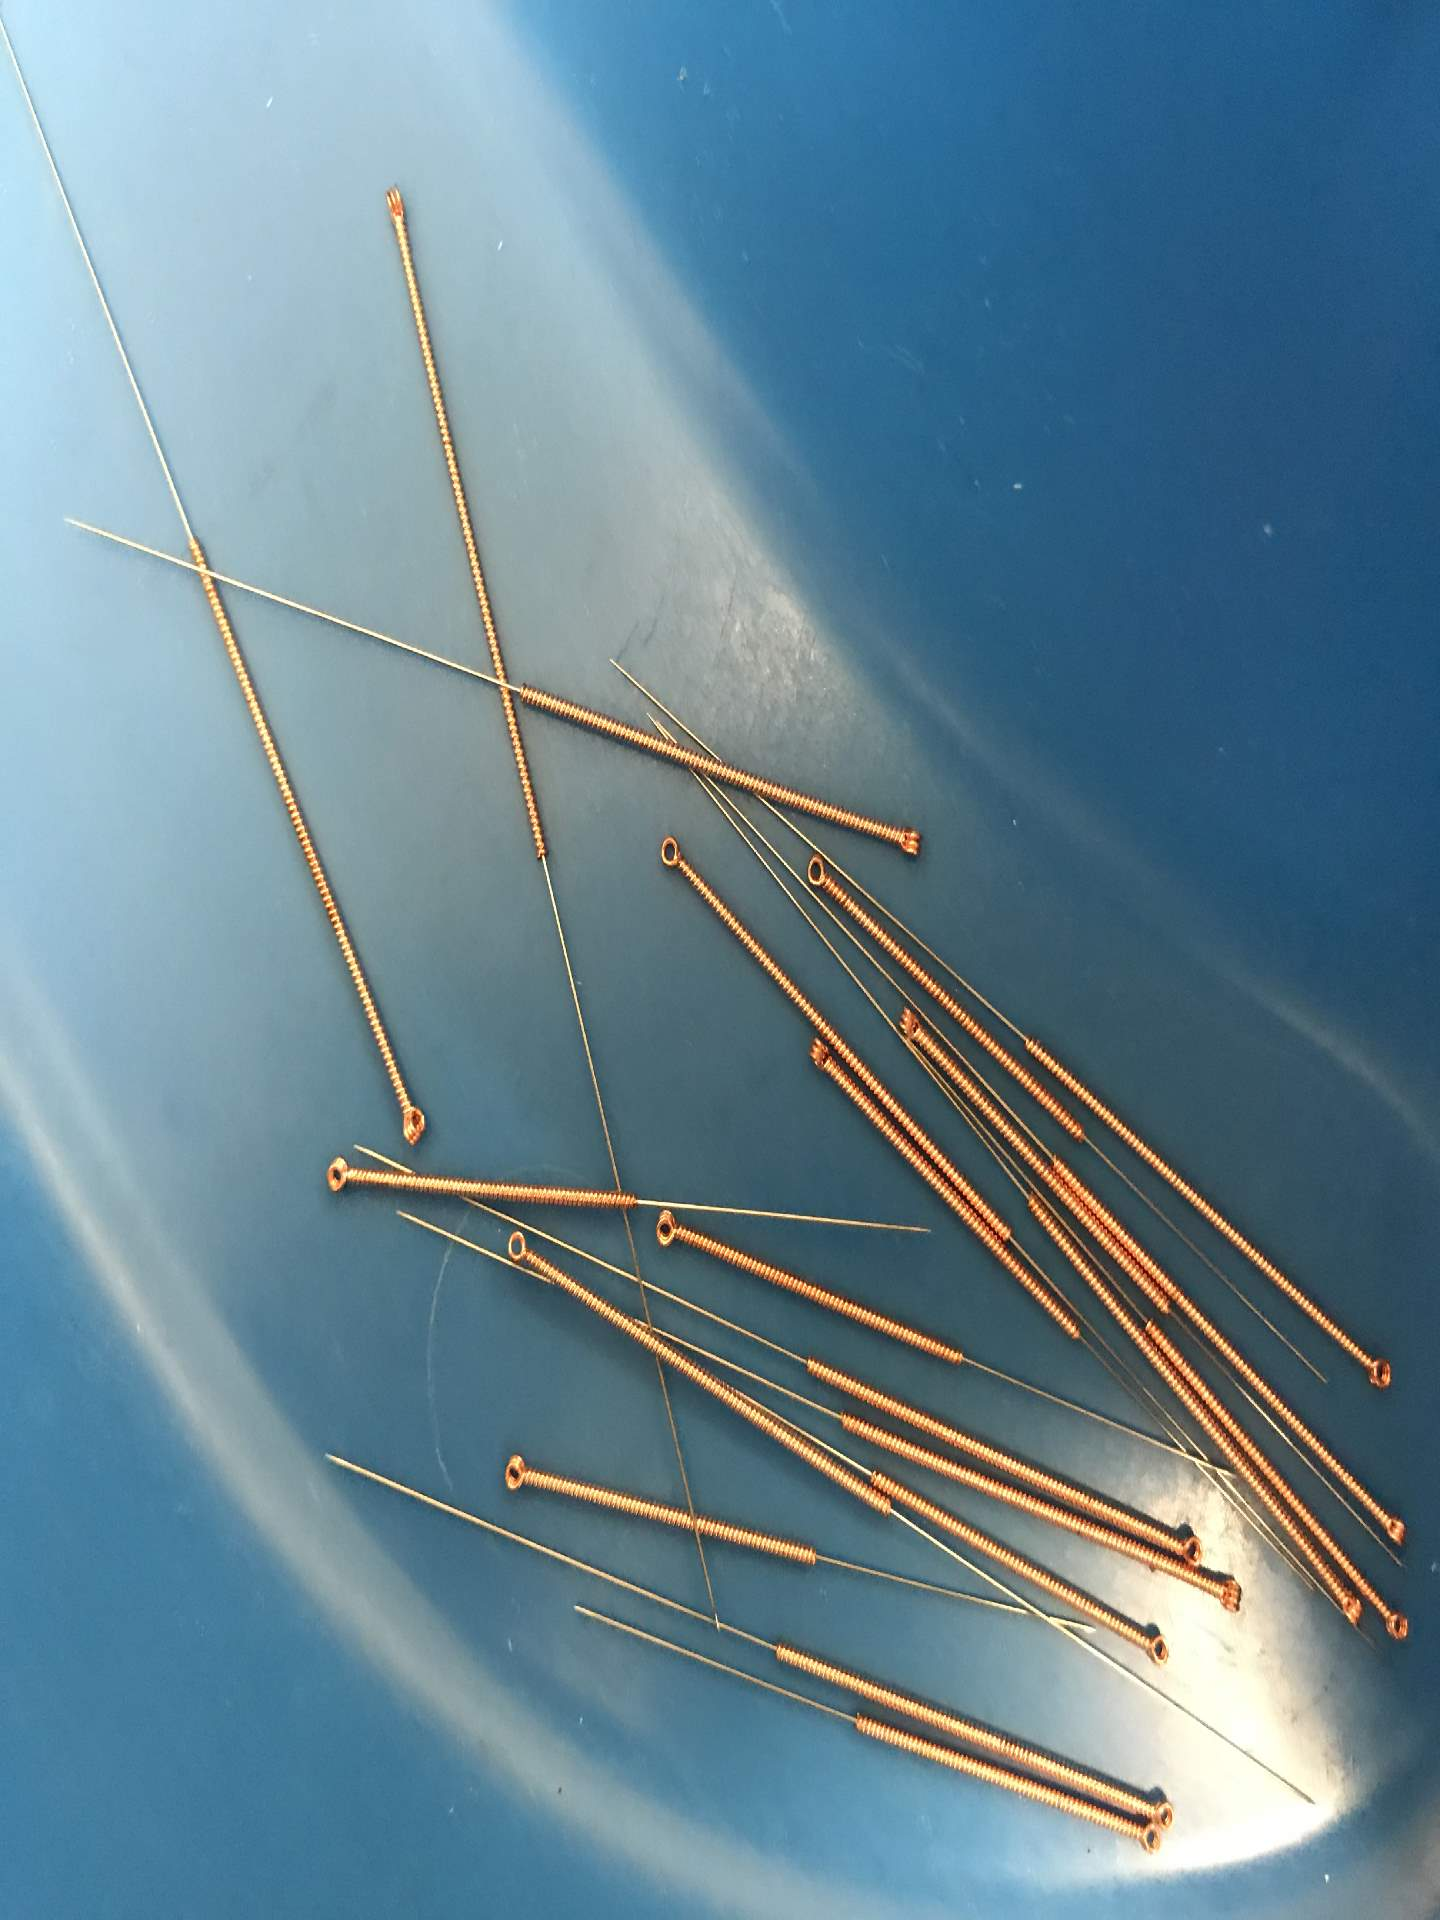needle: (310, 1146, 365, 1206), (368, 172, 421, 234), (487, 1444, 543, 1501), (644, 824, 697, 884), (389, 1093, 439, 1155), (490, 1225, 551, 1273), (883, 999, 936, 1054), (793, 847, 846, 900), (1355, 1344, 1402, 1401), (885, 815, 935, 865), (640, 1206, 694, 1252), (1134, 1624, 1178, 1672), (1372, 1503, 1413, 1553), (1210, 1571, 1251, 1619), (1375, 1603, 1416, 1651), (1330, 1587, 1370, 1633), (797, 1031, 832, 1076), (1142, 1785, 1178, 1826), (1128, 1823, 1166, 1857), (1175, 1531, 1209, 1569)
